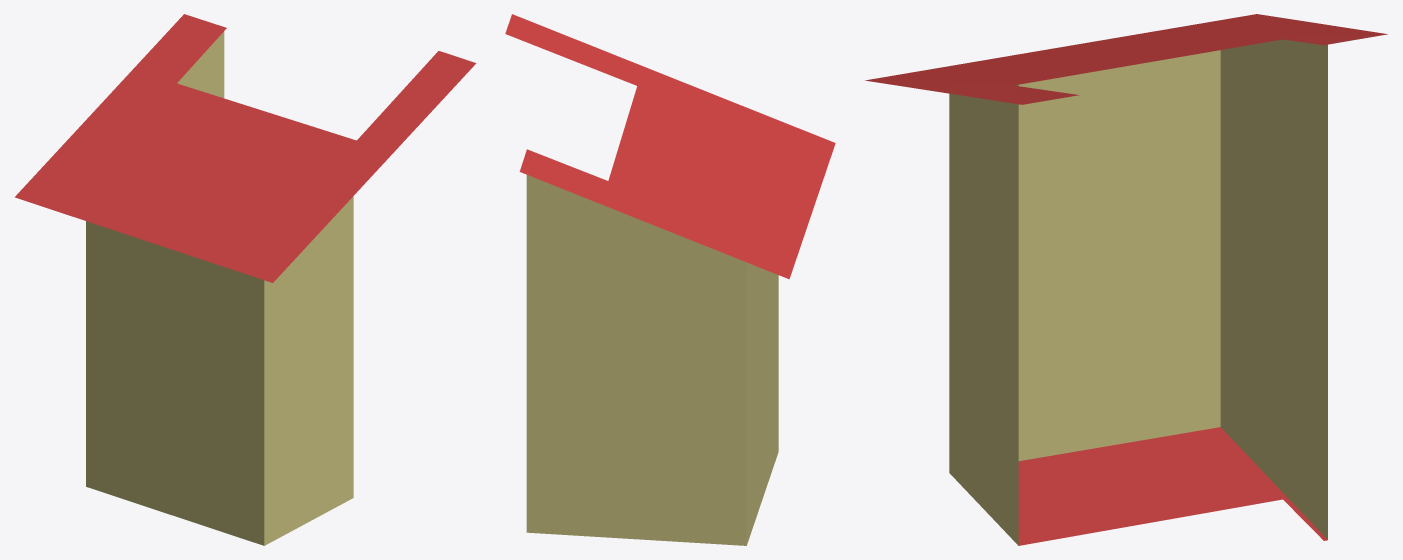
The picture shows the model from 3 angles, left to right: view 1: azimuth 30°, elevation 25°; view 2: azimuth 150°, elevation 25°; view 3: azimuth 270°, elevation 25°; orthographic projection. The views are drawn at different scales.
Size of the model in its own units: 8.43 by 8.01 by 8.76.
